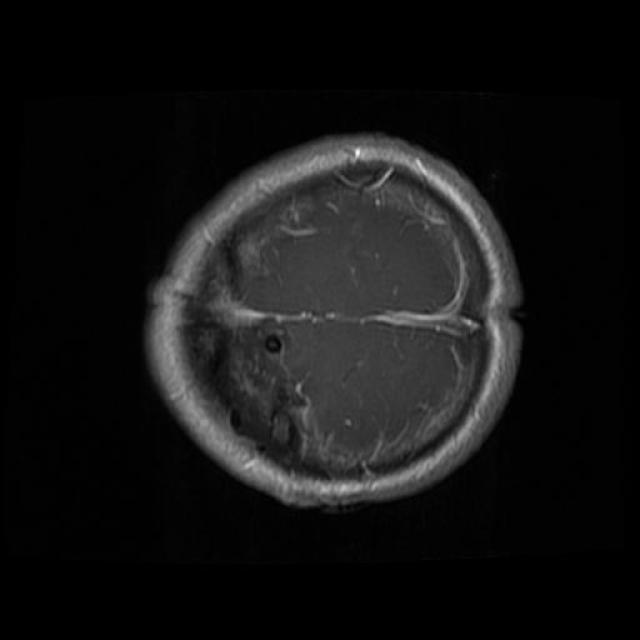Glioma: (217, 317, 307, 463)
